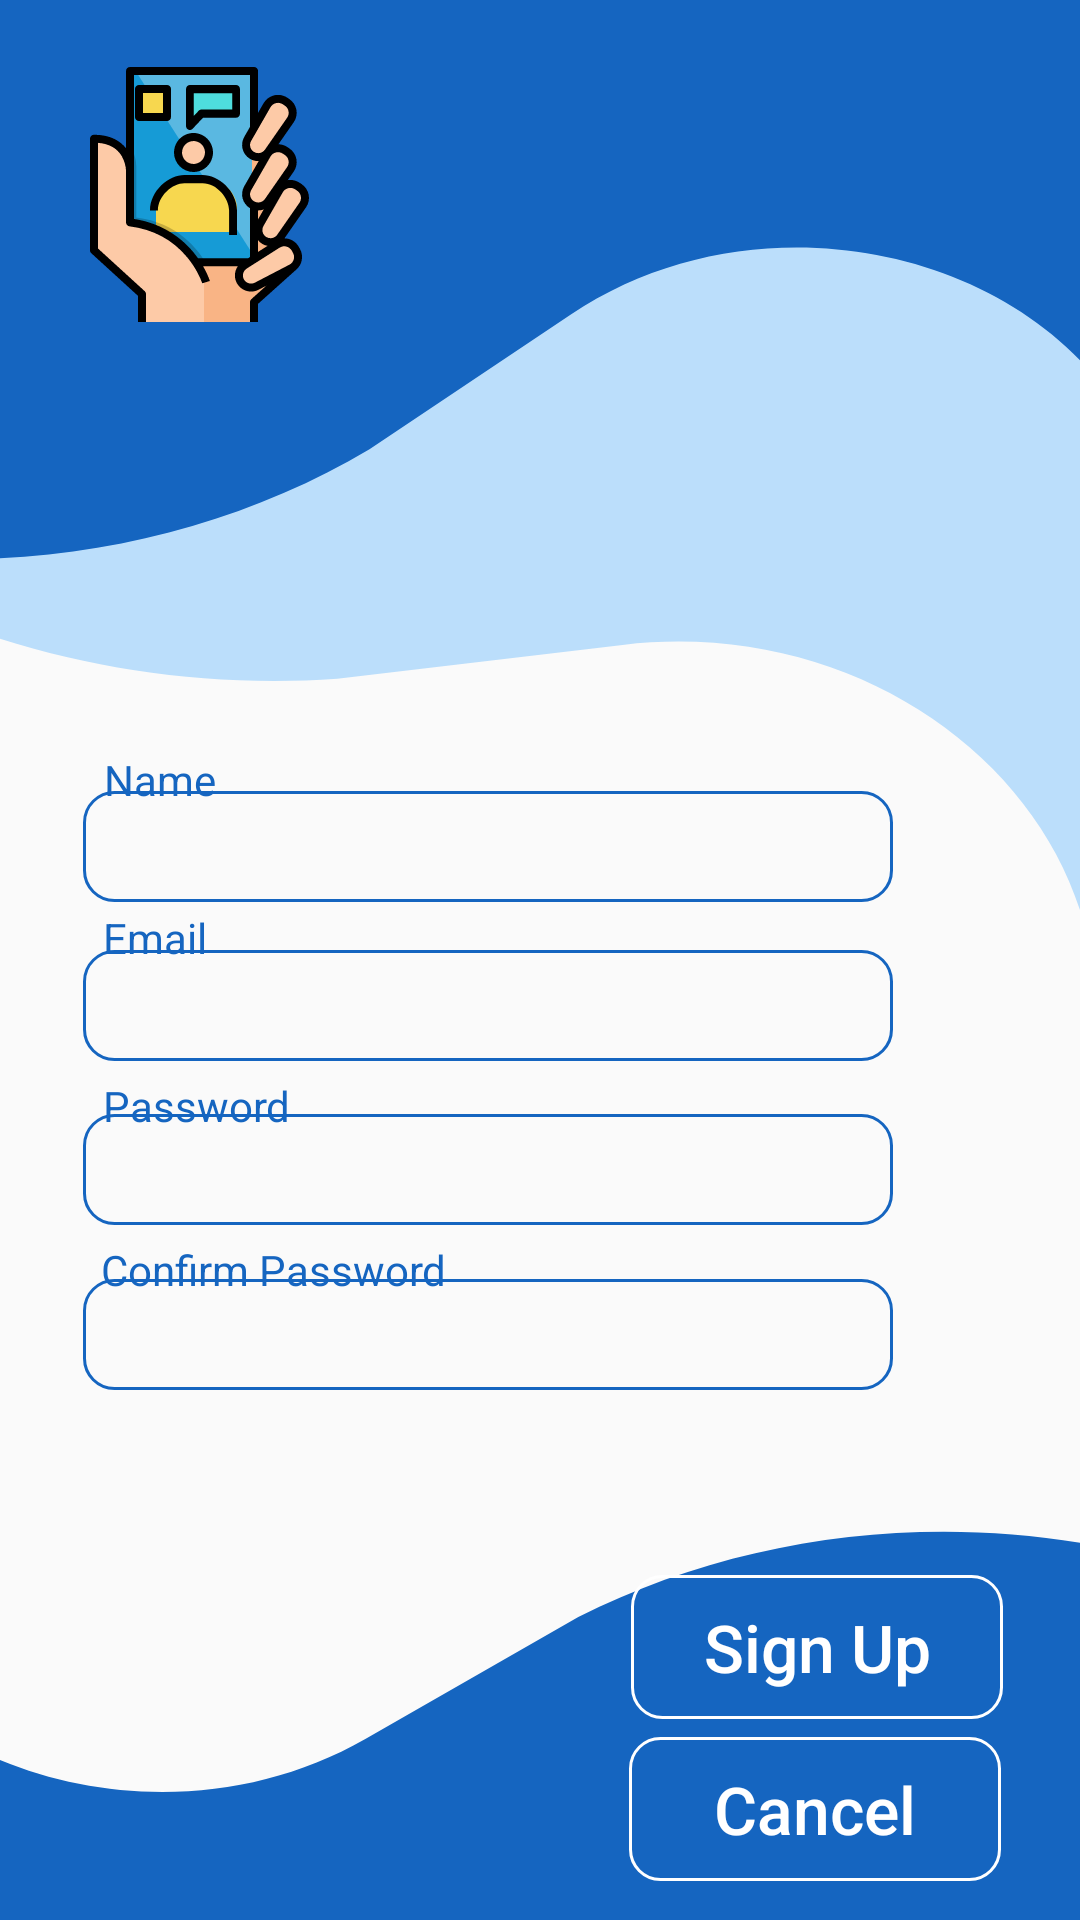

Where icons sit on this 1080 x 1920 app screen, as {"left": x1, "top": y1, "right": x2, "bottom": y2}:
video calling: {"left": 90, "top": 67, "right": 309, "bottom": 322}
